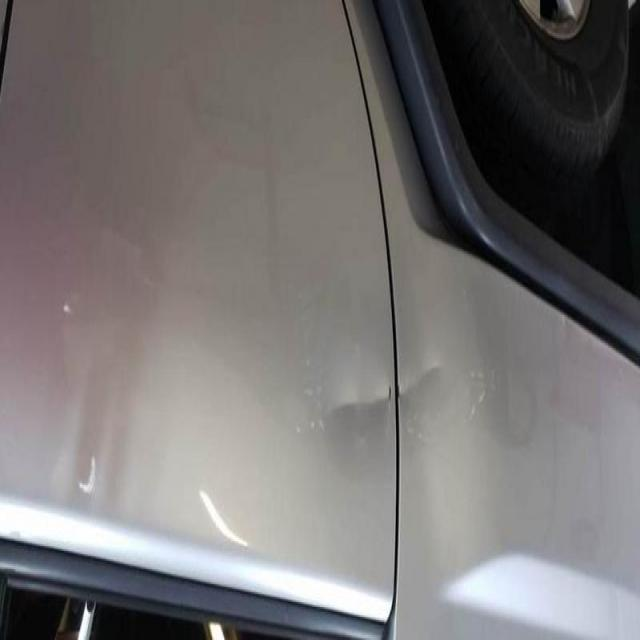dent: (298, 332, 478, 489)
